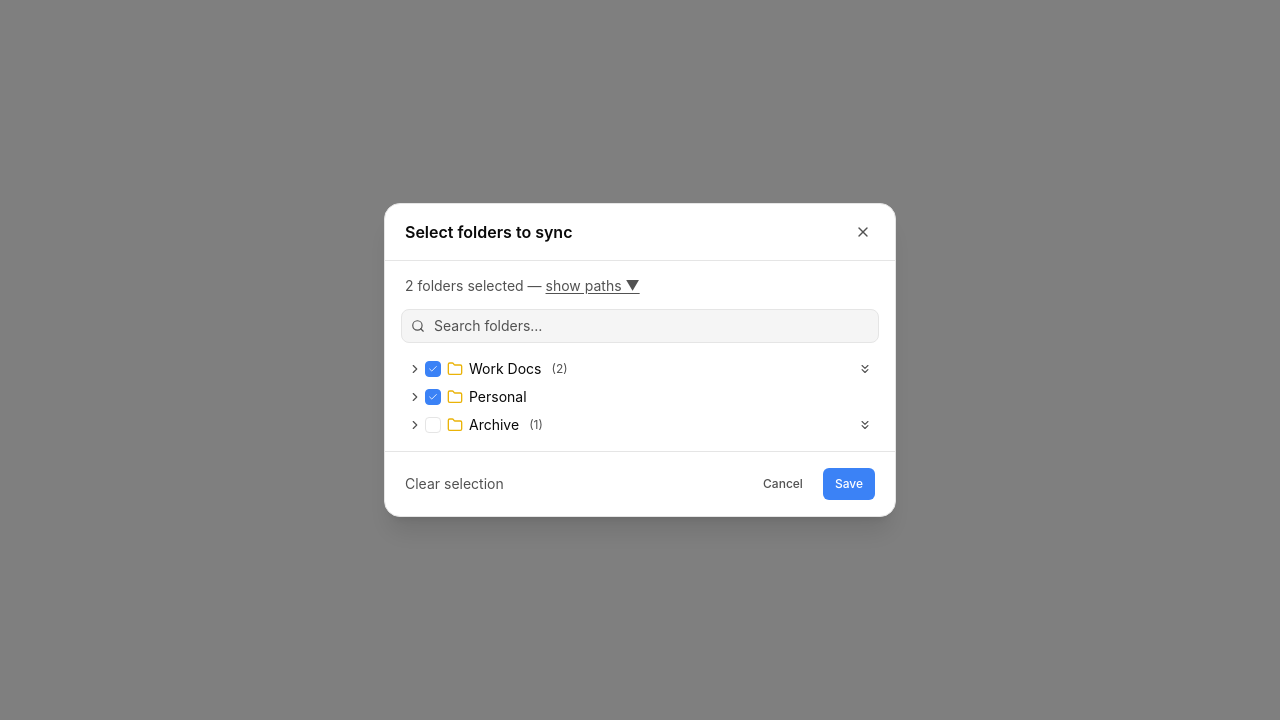
FolderPickerModal › clears all selections when "Clear selection" is clicked
expect the text "Work Docs" is shown: met, box [469,359,542,379]
expect the button "2 folders selected — show paths ▼" is shown: met, box [405,276,640,296]
Click the button "Clear selection". click: [454, 484]
box: [405,474,504,494]
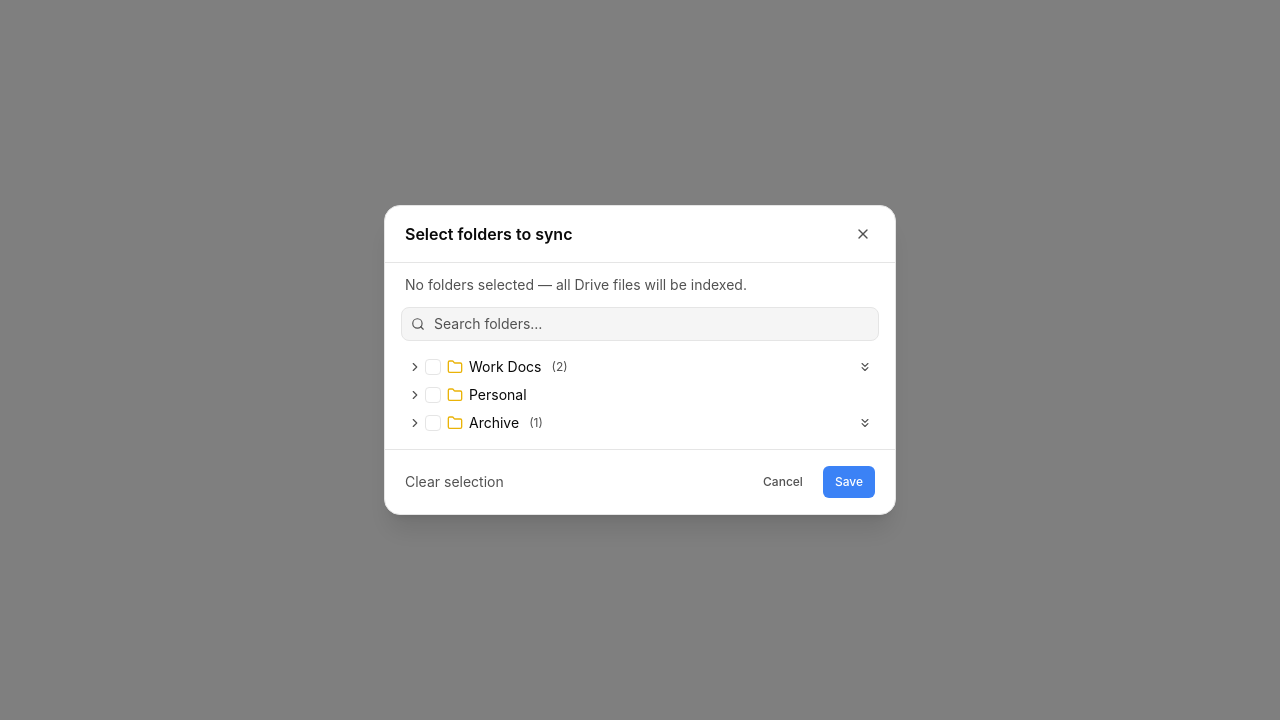
expect the text "No folders selected — all Drive files will be indexed." is shown: met, box [405,276,747,293]
